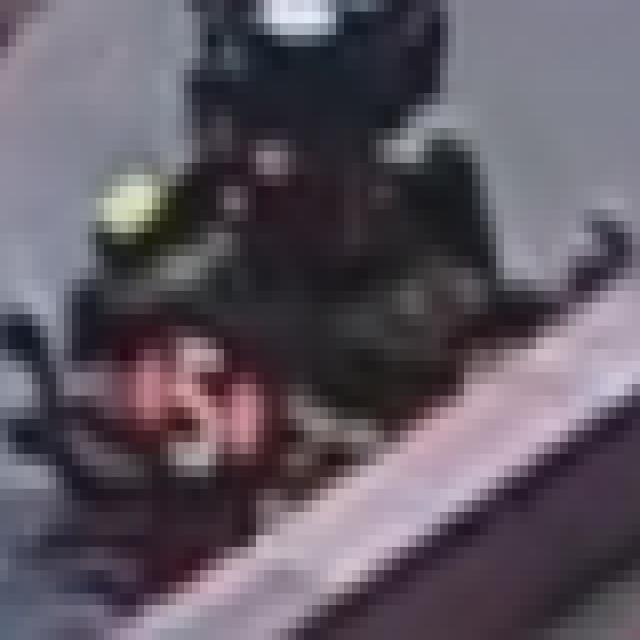R5: (136, 338, 256, 477)
